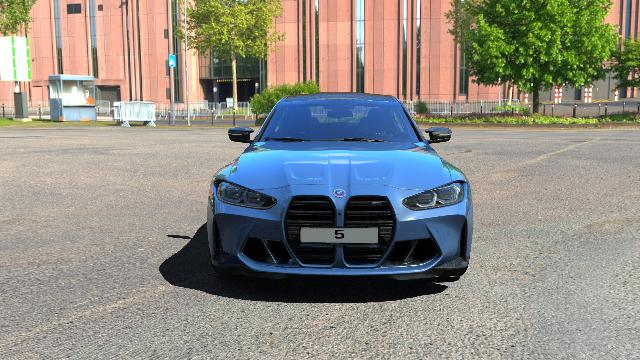License Plate: (304, 228, 378, 244)
